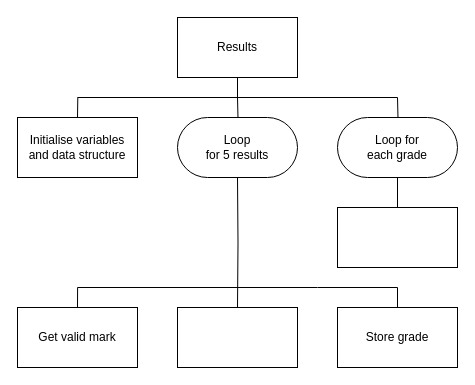
The diagram is 475 pixels wide and 385 high, and some of its shapes have lost their labels. Each missing label, with the centre of its shape:
Convert mark to grade: (237,337)
Display grade: (397,237)
